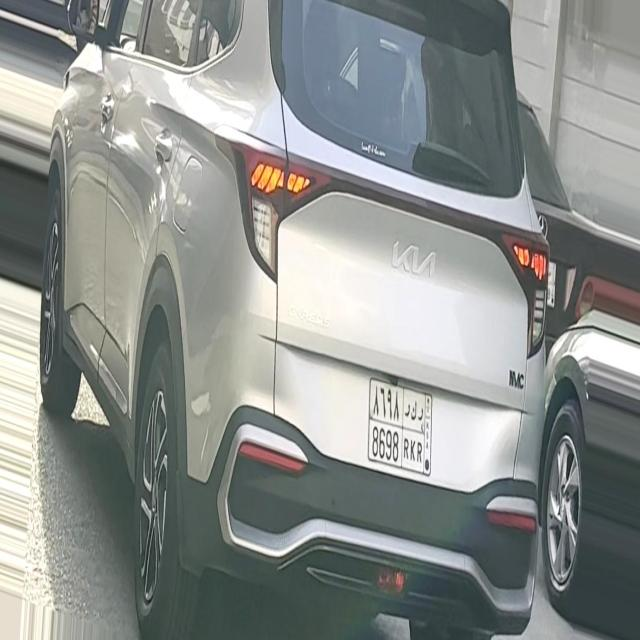Car-plate: (360, 367, 444, 490)
